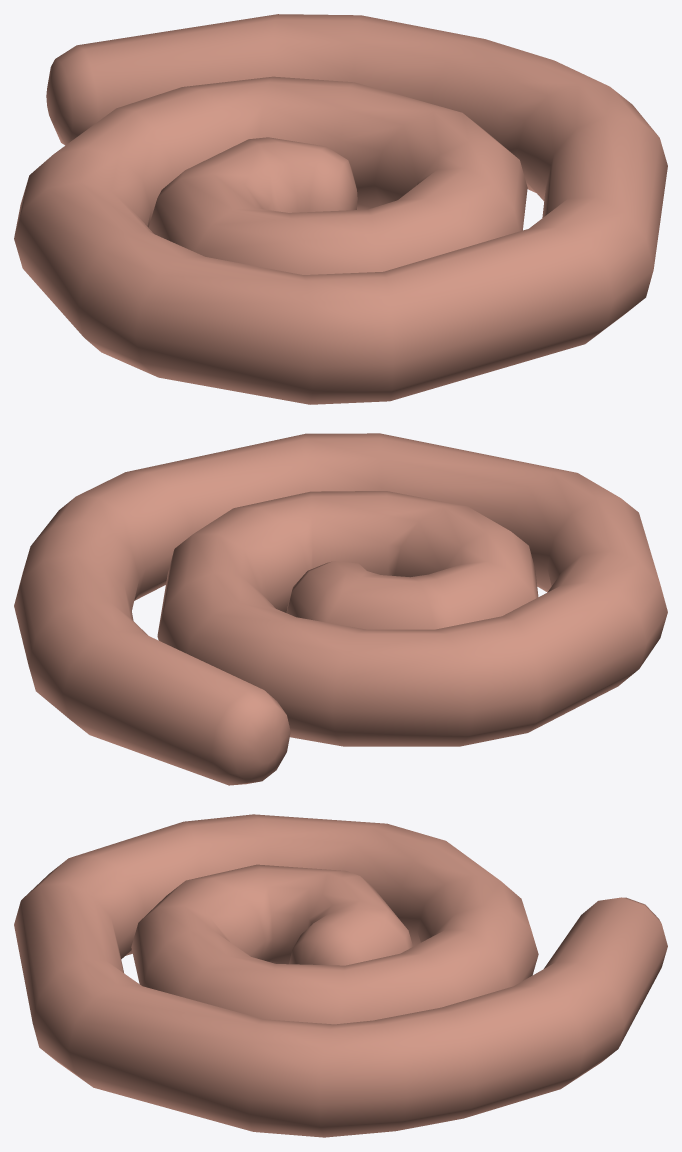
Rendered from Sausage_ring.fbx.
3 renders of one model, top to bottom at view 1: azimuth 30°, elevation 25°; view 2: azimuth 150°, elevation 25°; view 3: azimuth 270°, elevation 25°, orthographic. The views are drawn at different scales.
Visible parts, largest first — view 1: Sausage_ring; view 2: Sausage_ring; view 3: Sausage_ring.
Part boxes in pixels (x1=…): Sausage_ring: x1=14, y1=14, x2=667, y2=404; Sausage_ring: x1=14, y1=433, x2=667, y2=785; Sausage_ring: x1=14, y1=814, x2=667, y2=1137.
Bounding box in the file's own units: 123 × 132 × 22.87.
